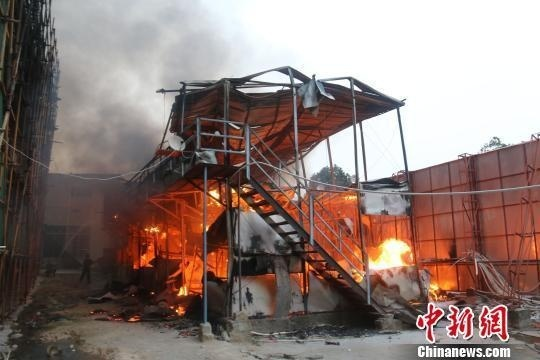fire: (366, 235, 413, 272)
